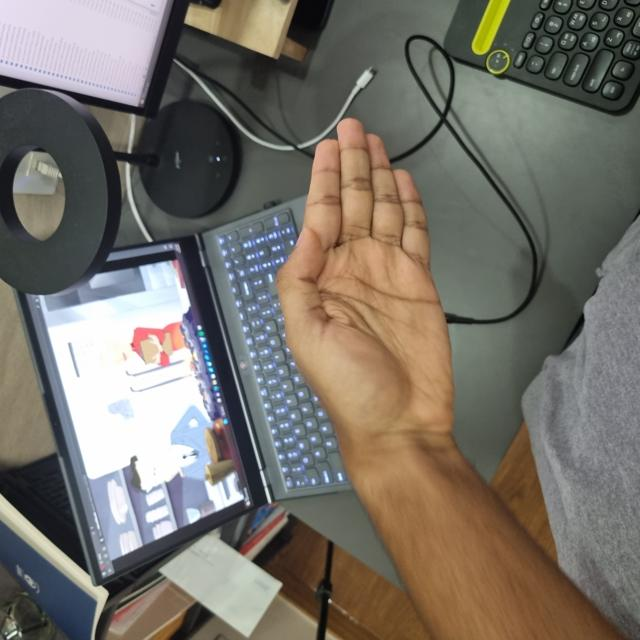Paper: (195, 279, 514, 452)
